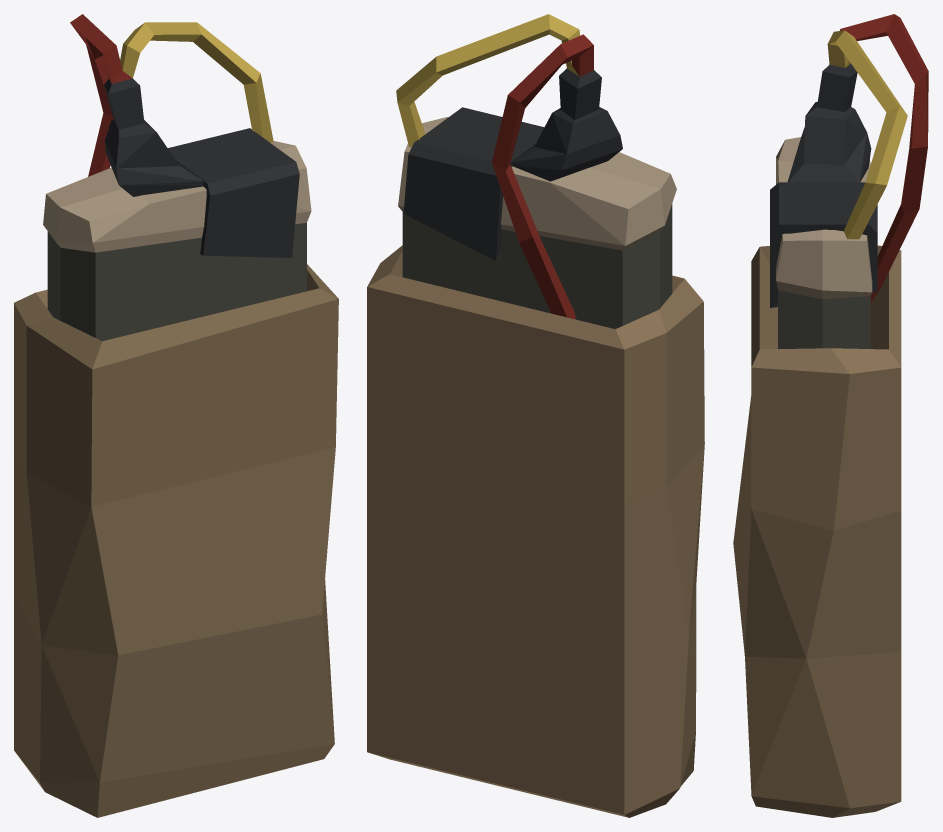
The model's file is SM_Chr_Attach_Bomb_C4_01.fbx.
The picture shows the model from 3 angles, left to right: view 1: azimuth 30°, elevation 25°; view 2: azimuth 150°, elevation 25°; view 3: azimuth 270°, elevation 25°; orthographic projection. The views are drawn at different scales.
Parts seen in each view (by area): view 1: SM_Chr_Attach_Bomb_C4_01; view 2: SM_Chr_Attach_Bomb_C4_01; view 3: SM_Chr_Attach_Bomb_C4_01.
Part boxes in pixels (x1,y1,x2,y2): SM_Chr_Attach_Bomb_C4_01: (14,14,338,817); SM_Chr_Attach_Bomb_C4_01: (367,14,704,817); SM_Chr_Attach_Bomb_C4_01: (733,14,928,817).
Size of the model in its own units: 10.37 by 25.53 by 6.31.
